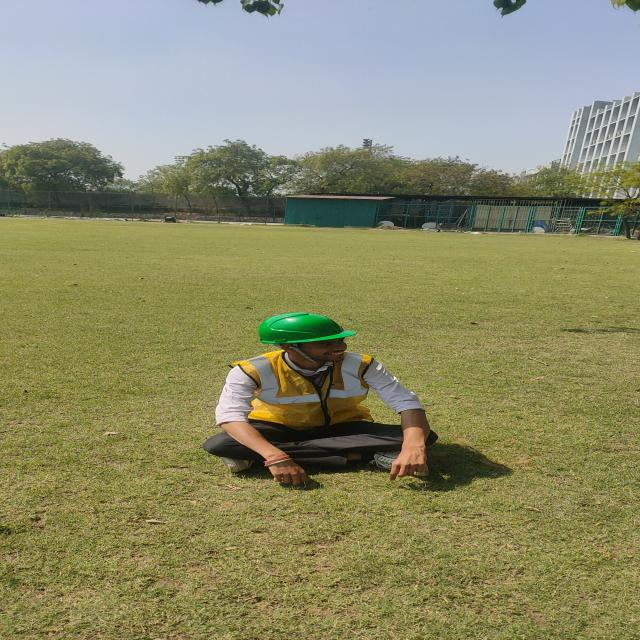safe: (215, 312, 425, 473)
